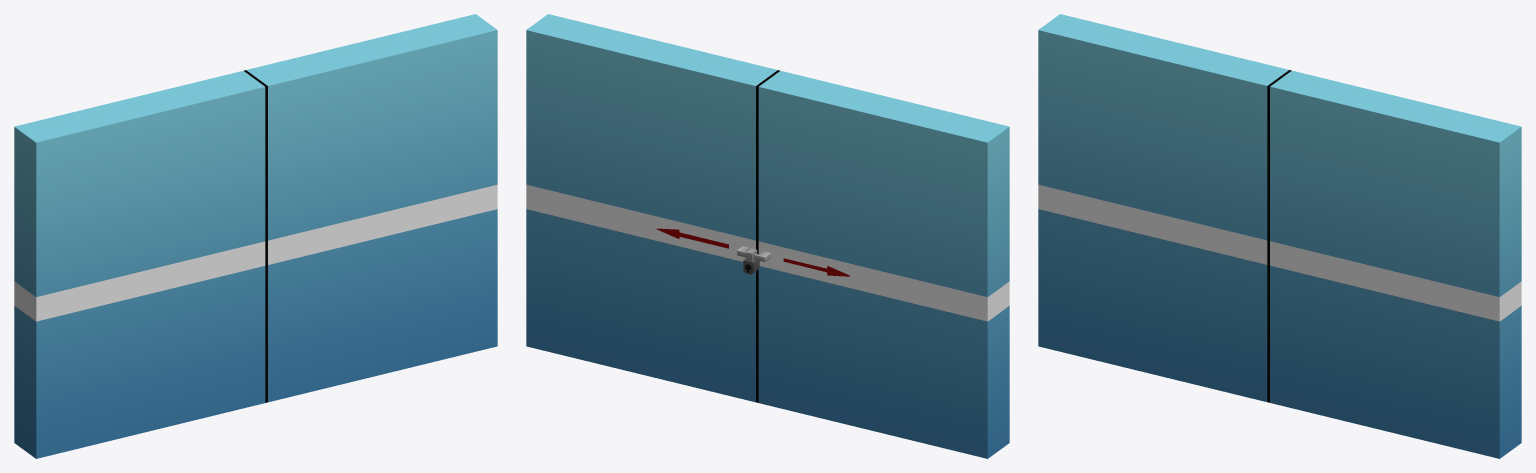
Rendered from geo_lockedDoor.fbx.
The picture shows the model from 3 angles, left to right: view 1: azimuth 30°, elevation 25°; view 2: azimuth 150°, elevation 25°; view 3: azimuth 330°, elevation 25°; orthographic projection.
Visible parts, largest first — view 1: geo_lockedDoor; view 2: geo_lockedDoor; view 3: geo_lockedDoor.
Boxes of the visible parts, bbox=[...] form: geo_lockedDoor: bbox=[14, 14, 497, 458]; geo_lockedDoor: bbox=[526, 14, 1009, 458]; geo_lockedDoor: bbox=[1038, 14, 1521, 458].
Bounding box in the file's own units: 545 × 357 × 62.25.
Materials: 2 (2 with a texture image).
